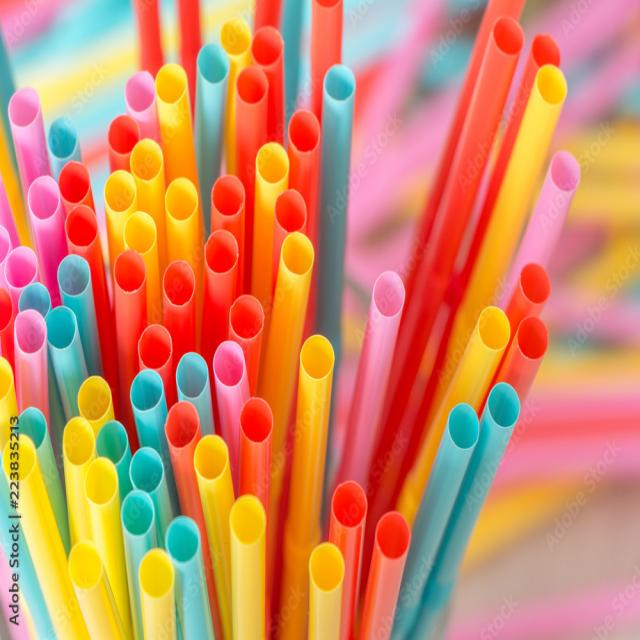plastic: (335, 264, 419, 471)
